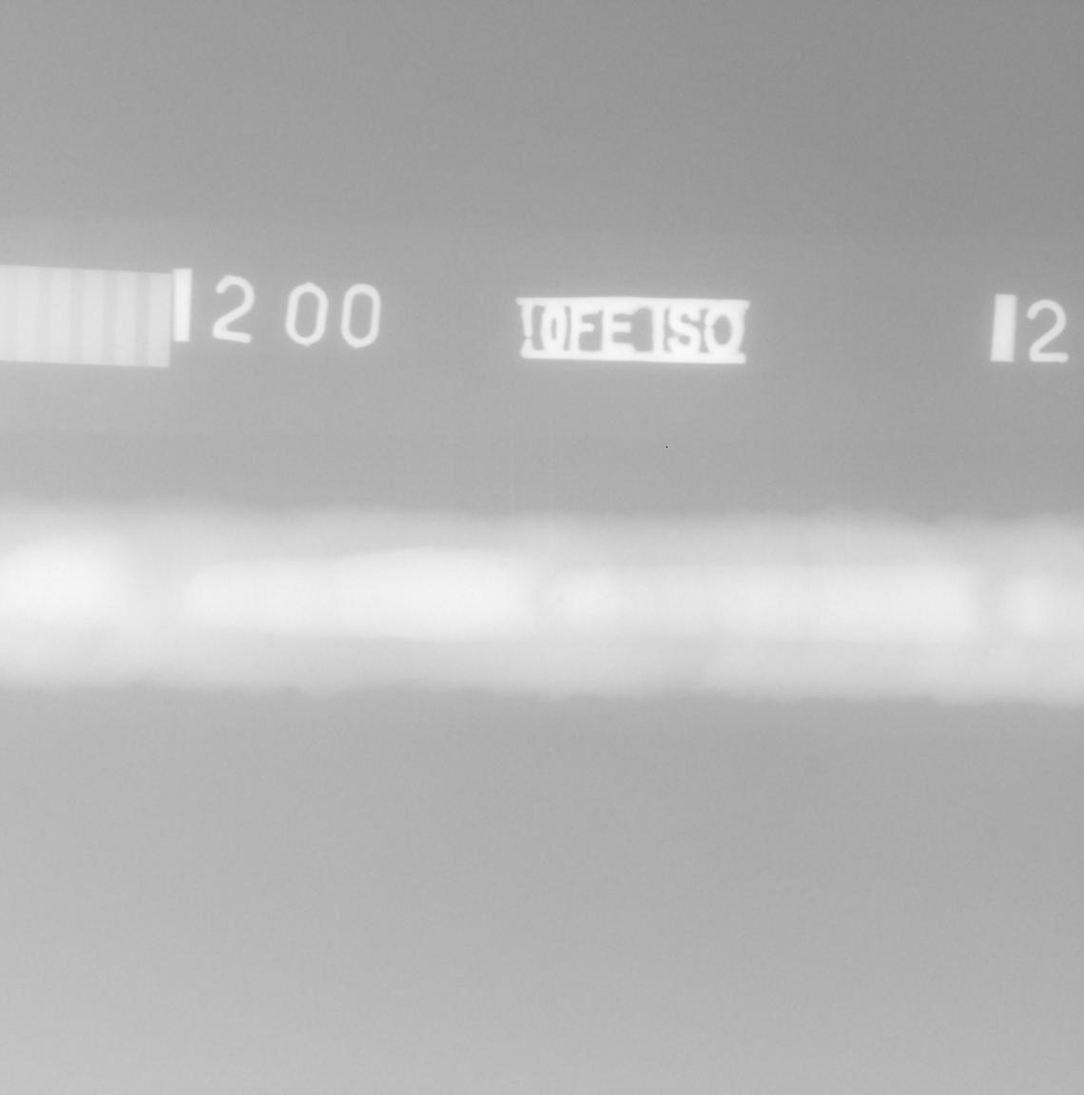Pore/Porosity: (557, 599, 560, 603)
